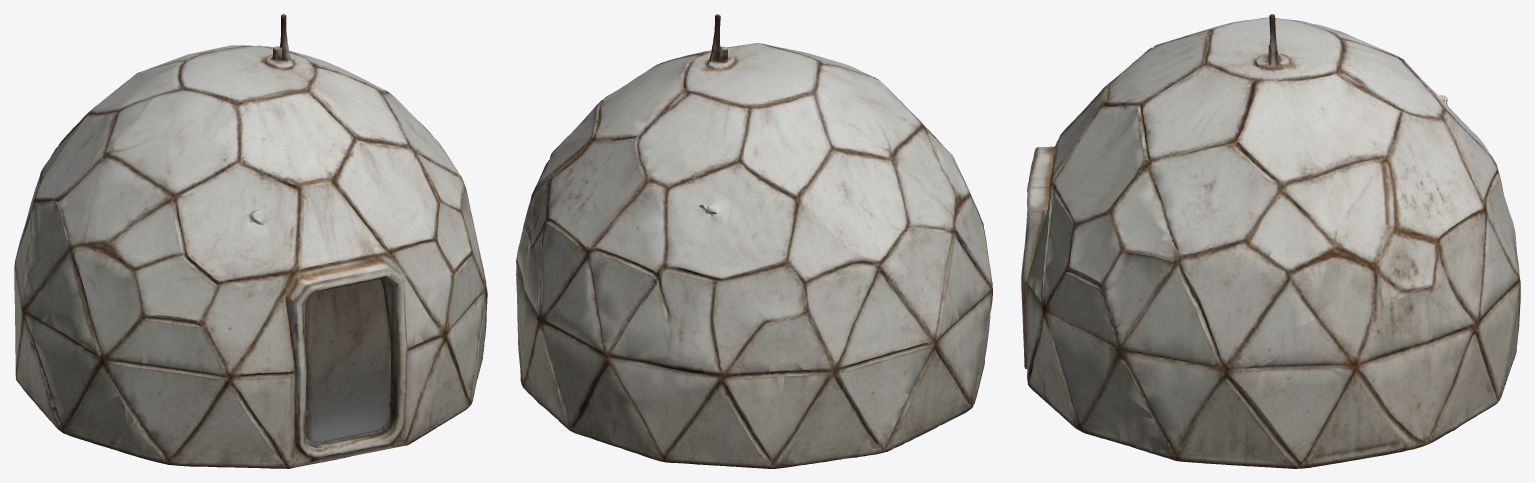
3 views of the same model, side by side, from view 1: azimuth 30°, elevation 25°; view 2: azimuth 150°, elevation 25°; view 3: azimuth 270°, elevation 25° (orthographic). The views are drawn at different scales.
Visible parts, largest first — view 1: world; view 2: world; view 3: world.
Boxes of the visible parts, x1=… form: world: x1=14, y1=14, x2=487, y2=468; world: x1=516, y1=14, x2=992, y2=468; world: x1=1021, y1=14, x2=1520, y2=468.
Size of the model in its own units: 1 by 0.8167 by 1.
1 material, 1 textured.
